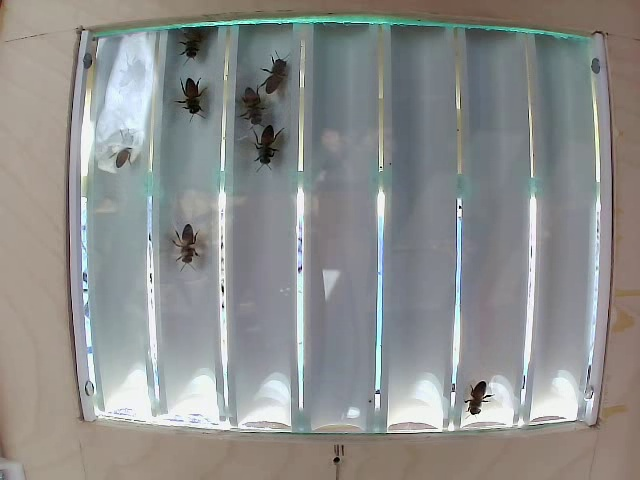bee: (165, 207, 204, 277), (161, 79, 216, 123), (104, 132, 154, 168), (239, 89, 275, 134), (181, 23, 216, 66), (262, 54, 298, 95), (253, 122, 281, 169)
